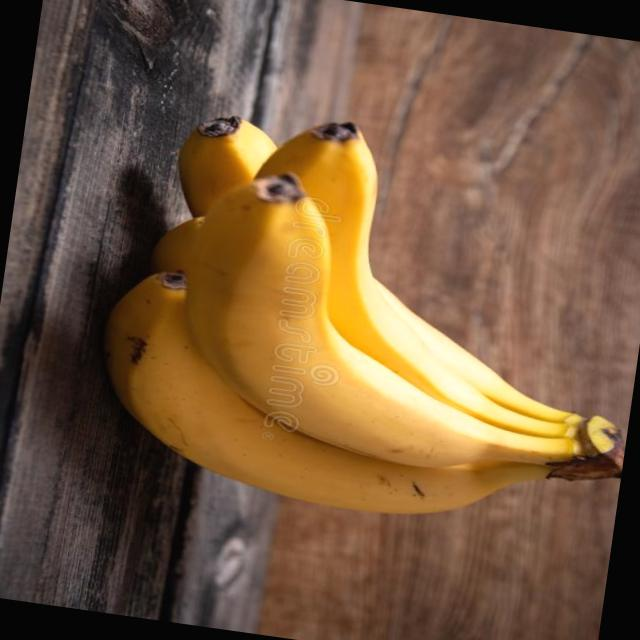banana: (82, 93, 640, 548)
